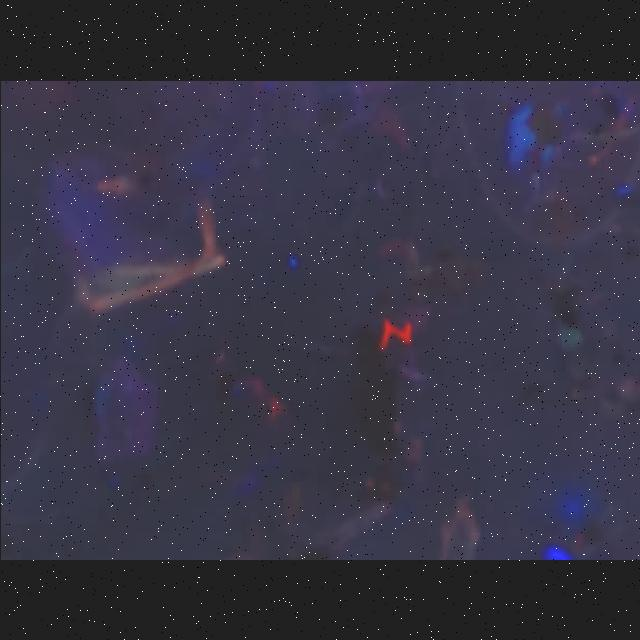Fragment: (46, 197, 224, 313)
